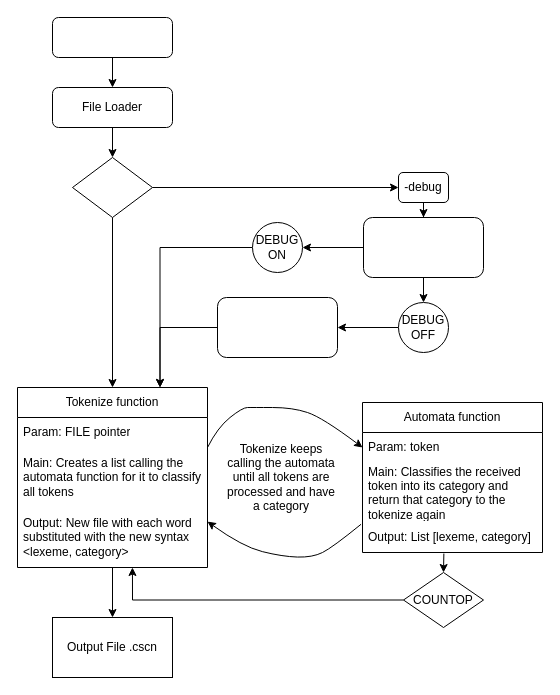
The diagram is 560 pixels wide and 695 high, and some of its shapes have lost their labels. Here are the shapes that lost their labels. From the top down, the centre of each, then its label:
At [112,37]: "Main Code".
At [112,187]: "Arguments".
At [423,247]: "Error Messages".
At [277,327]: "Print Stdout".
